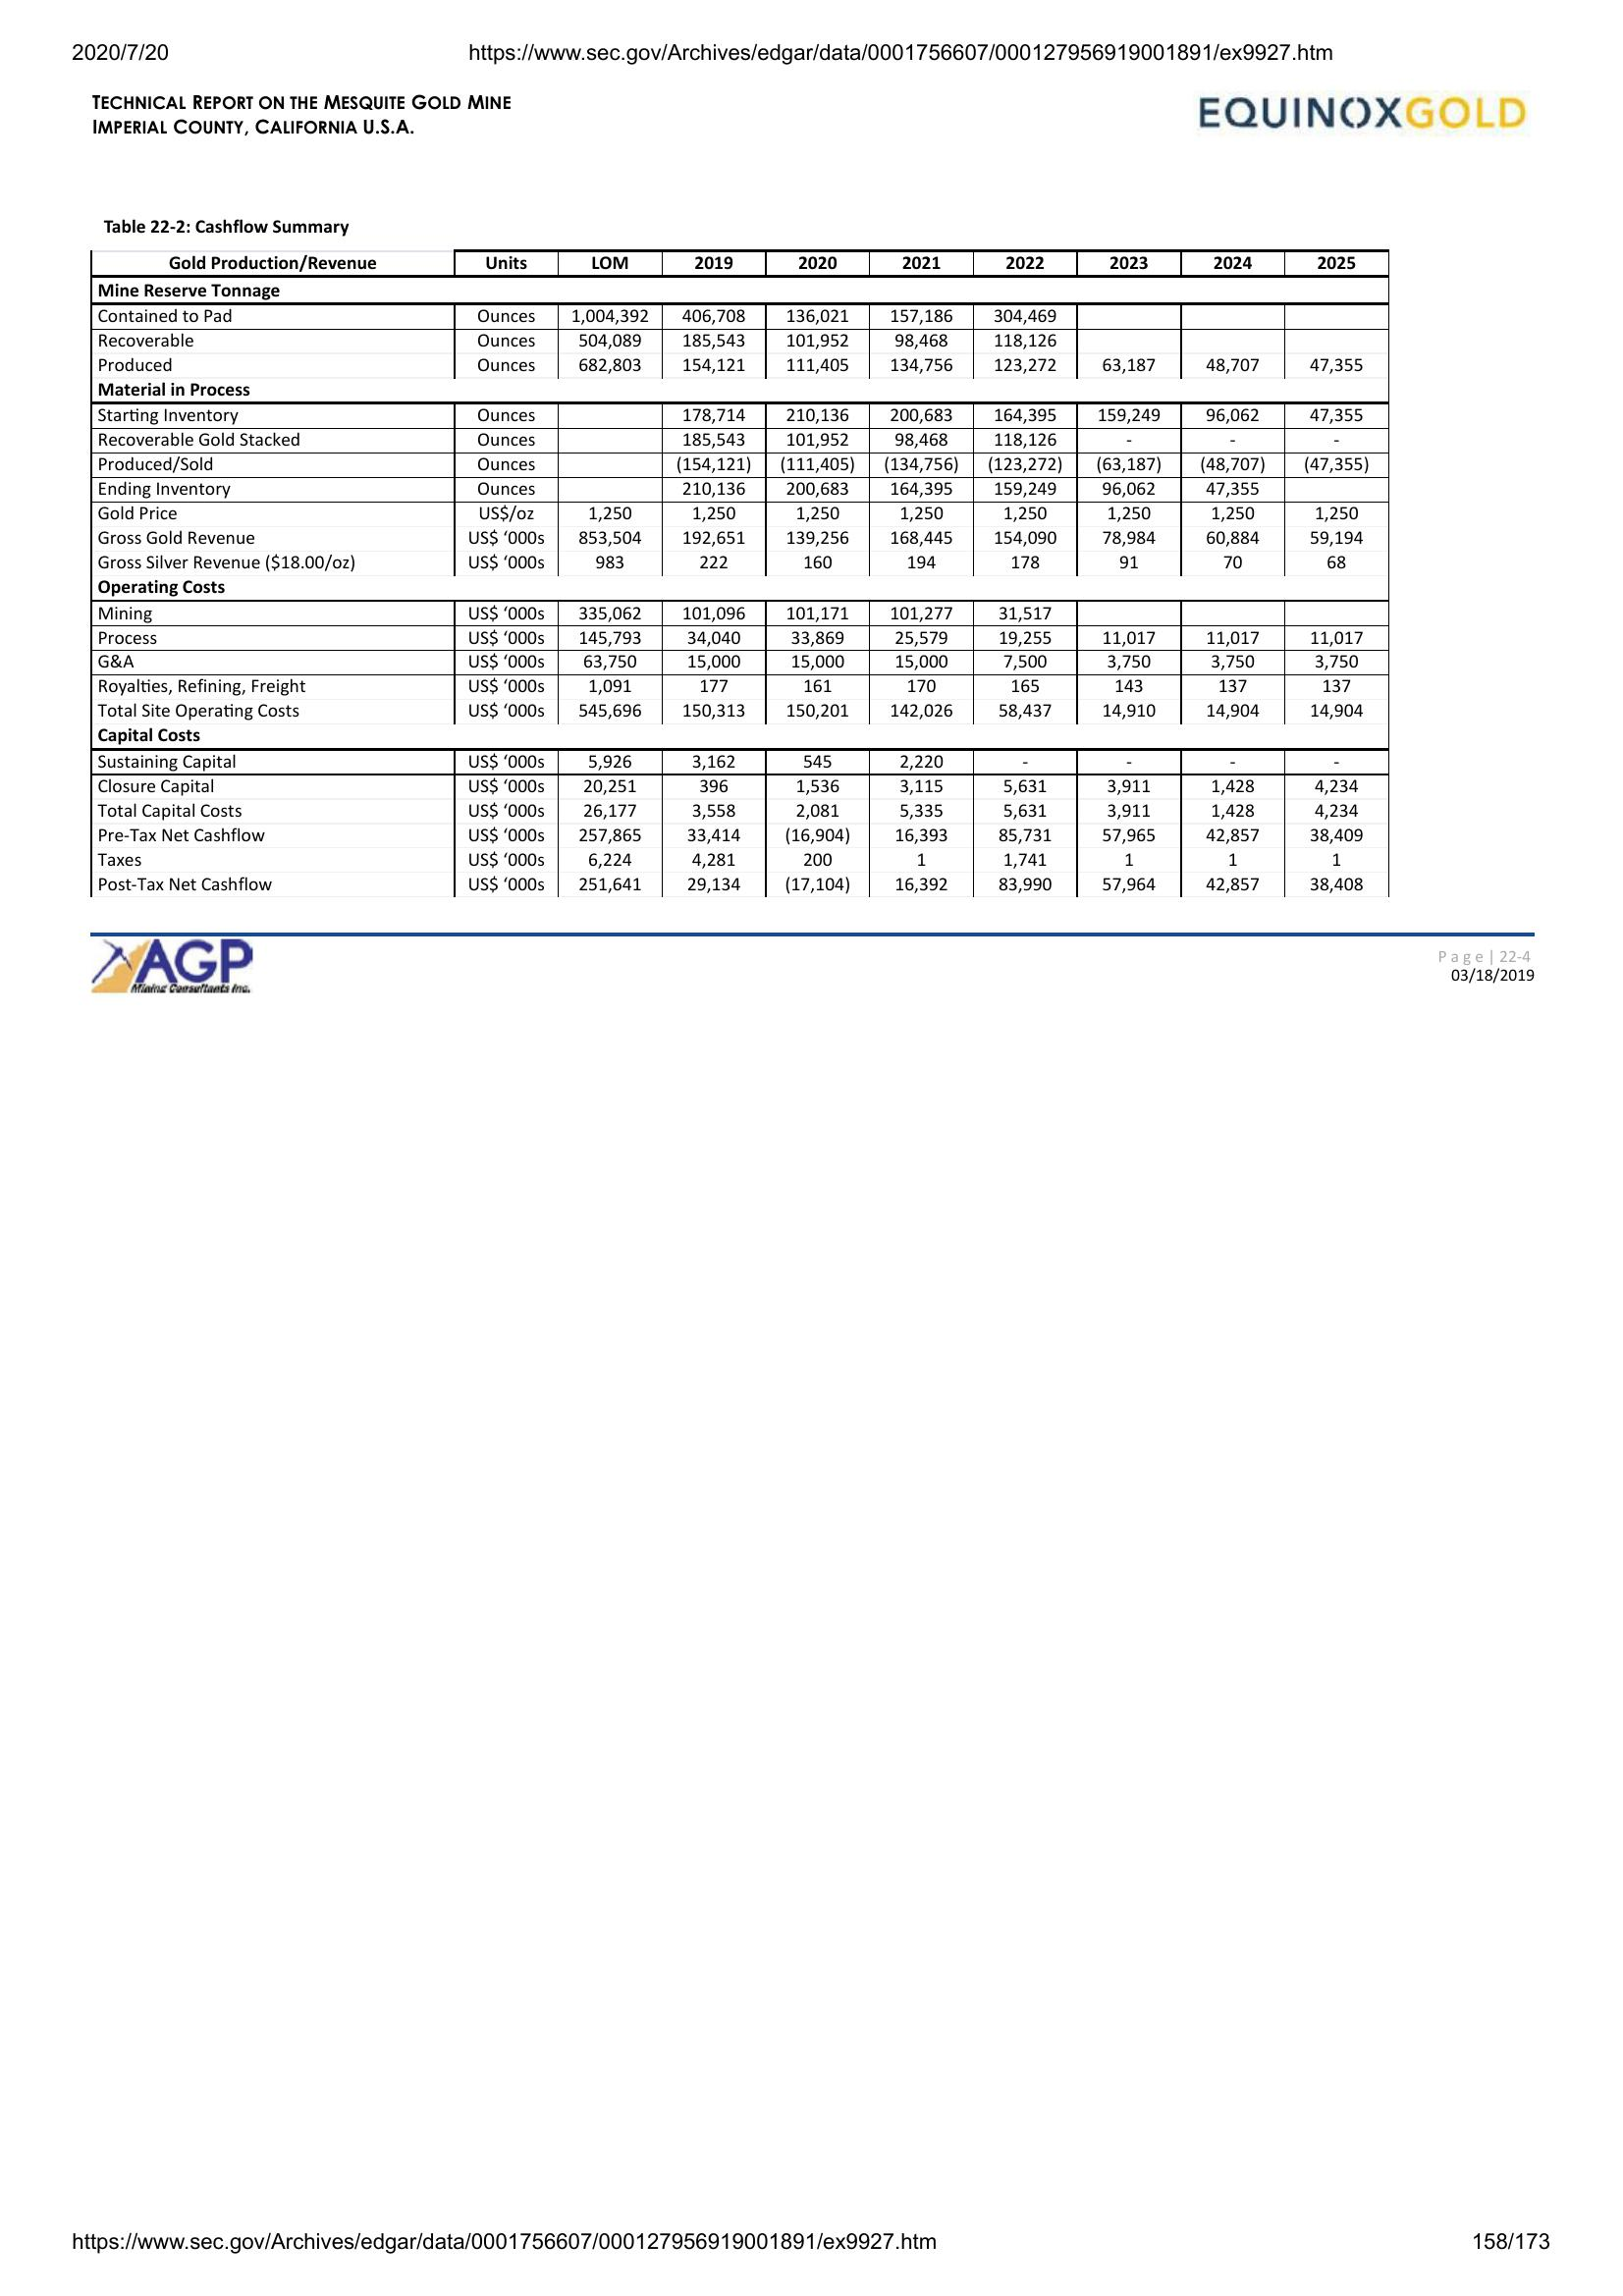table: (84, 244, 1396, 904)
